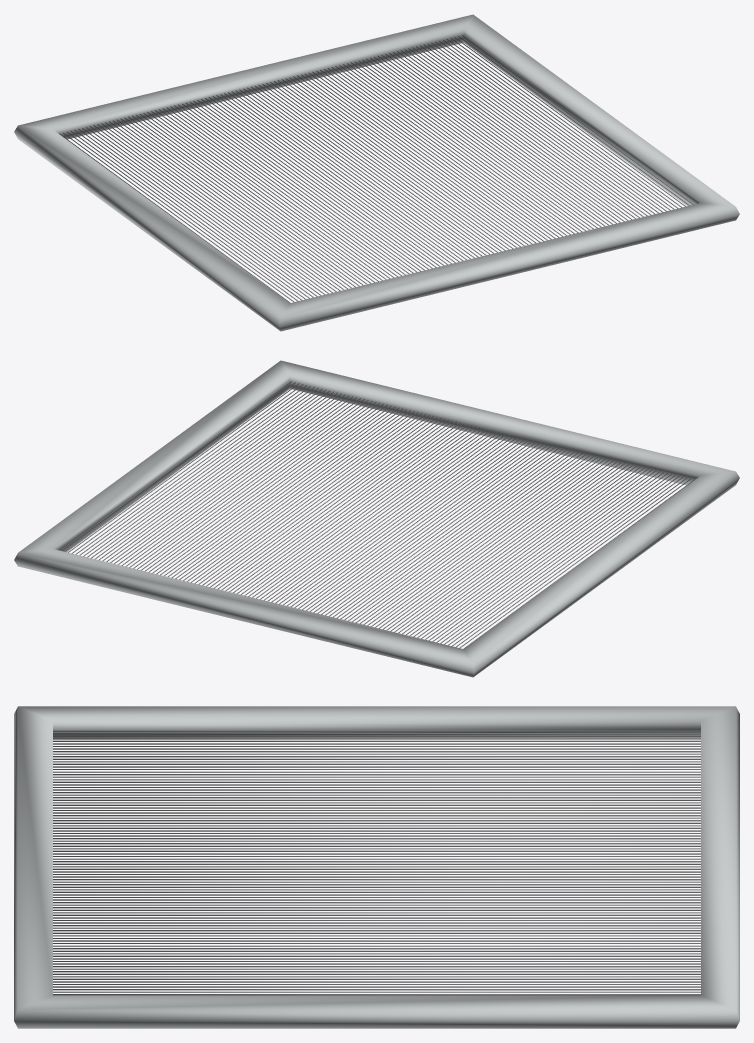
File: Wiremesh.gltf
The picture shows the model from 3 angles, top to bottom: view 1: azimuth 30°, elevation 25°; view 2: azimuth 150°, elevation 25°; view 3: azimuth 270°, elevation 25°; orthographic projection. The views are drawn at different scales.
Visible parts, largest first — view 1: Cylinder.017, Plane.002; view 2: Cylinder.017, Plane.002; view 3: Cylinder.017, Plane.002.
Part boxes in pixels (x1,y1,x2,y2): Cylinder.017: [59, 35, 693, 302]; Plane.002: [14, 14, 739, 331]; Cylinder.017: [60, 381, 694, 648]; Plane.002: [14, 360, 739, 677]; Cylinder.017: [53, 730, 700, 995]; Plane.002: [14, 706, 739, 1028].
Bounding box in the file's own units: 0.2997 × 0.00847 × 0.2997.
Materials: 2 (1 with a texture image).
